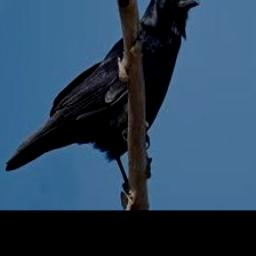Crow: (5, 0, 199, 183)
